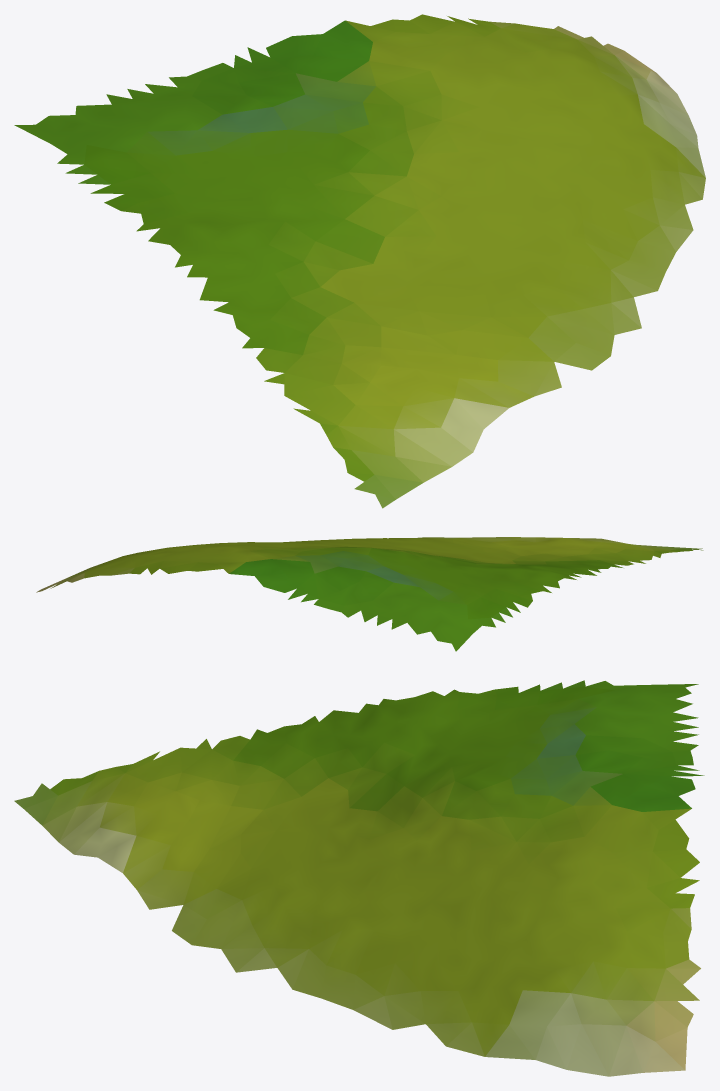
Rendered from chunk_3_3_LOD0.glb.
3 renders of one model, top to bottom at view 1: azimuth 30°, elevation 25°; view 2: azimuth 150°, elevation 25°; view 3: azimuth 270°, elevation 25°, orthographic. The views are drawn at different scales.
Parts seen in each view (by area): view 1: chunk_3_3_LOD0; view 2: chunk_3_3_LOD0; view 3: chunk_3_3_LOD0.
Part boxes in pixels (x1=…): chunk_3_3_LOD0: x1=14, y1=14, x2=705, y2=508; chunk_3_3_LOD0: x1=36, y1=537, x2=703, y2=651; chunk_3_3_LOD0: x1=14, y1=680, x2=704, y2=1076.
Bounding box in the file's own units: 20.36 × 4.46 × 19.91.
Materials: 1 (1 with a texture image).
